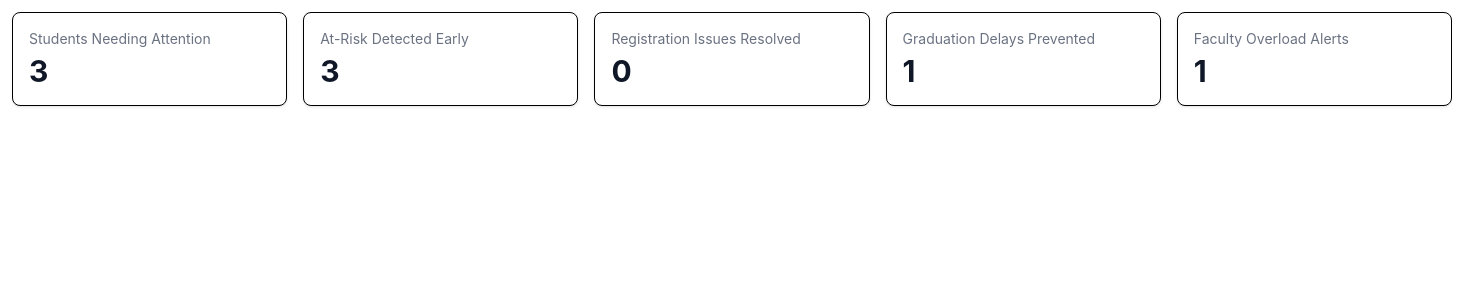
Scenario: KpiCards zero-count empty state › closes a zero-count panel the same three ways as any other
The width and height of the screenshot is (1464, 284).
Click the button "Registration Issues Resolved 0" at (706, 38), box 594,12 -> 870,106
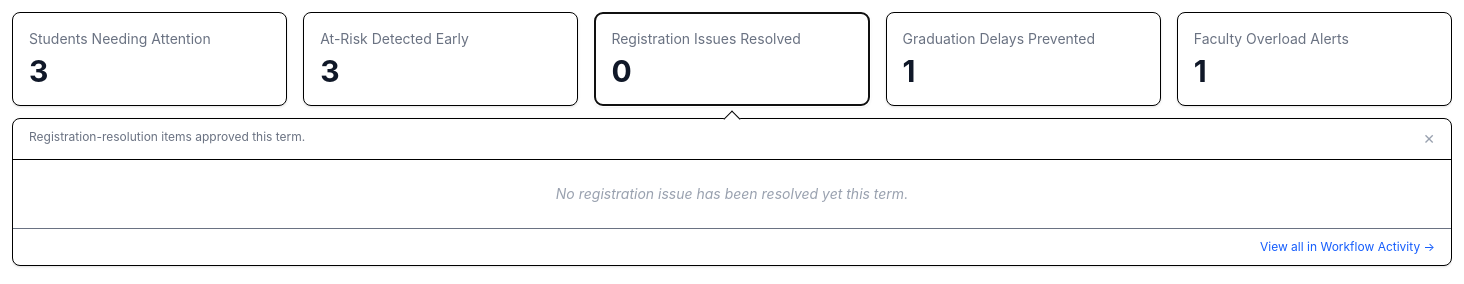
Click the button "Registration Issues Resolved 0" at (706, 38), box 594,12 -> 870,106
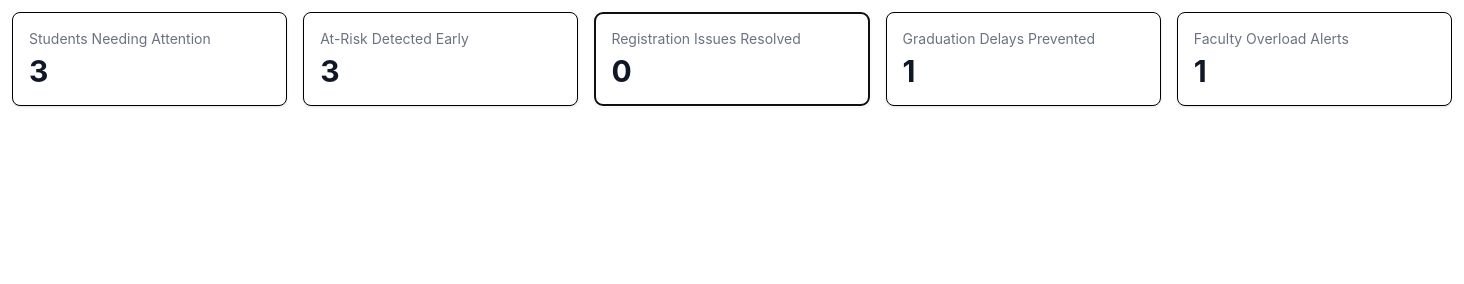
Expected: the element with test id "kpi-drilldown" is gone
Click the button "Registration Issues Resolved 0" at (706, 38), box 594,12 -> 870,106
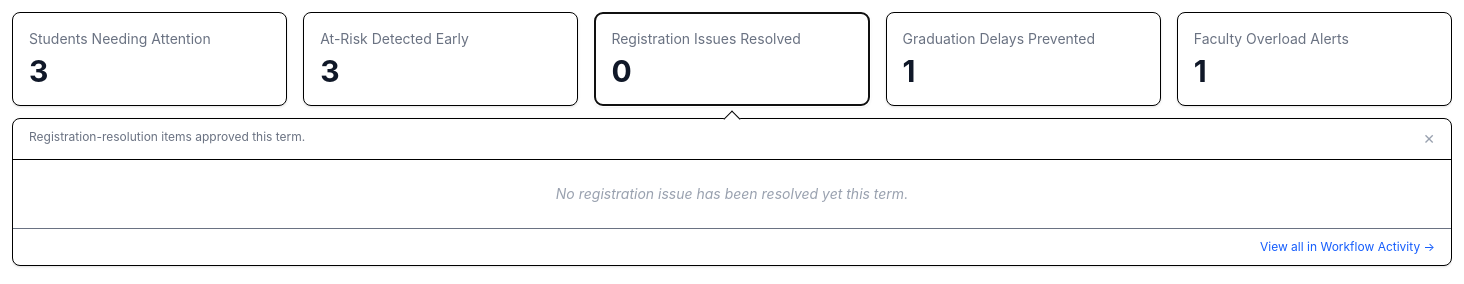
Press Escape
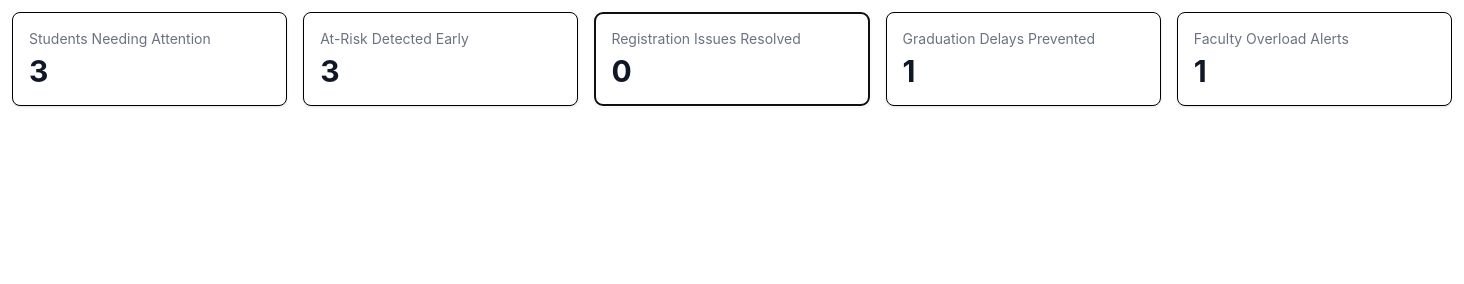
Expected: the element with test id "kpi-drilldown" is gone
Click the button "Registration Issues Resolved 0" at (706, 38), box 594,12 -> 870,106
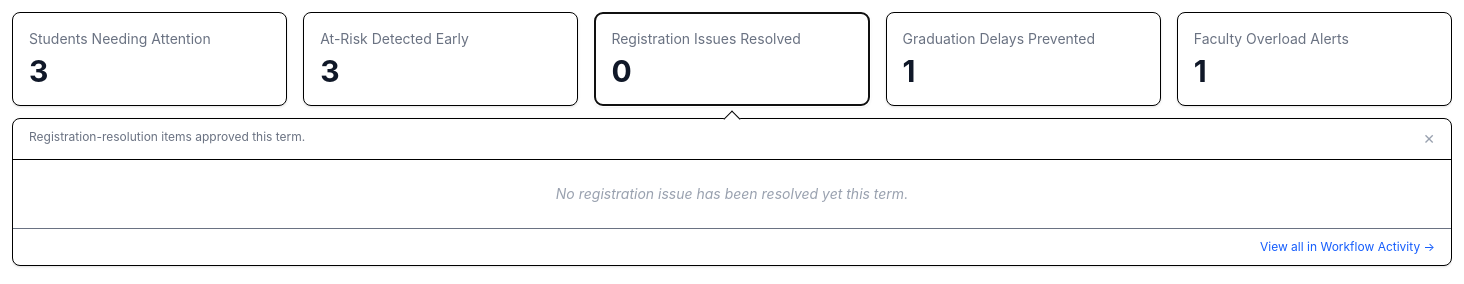
Click the button named "close" at (1429, 139), box 1423,129 -> 1435,149
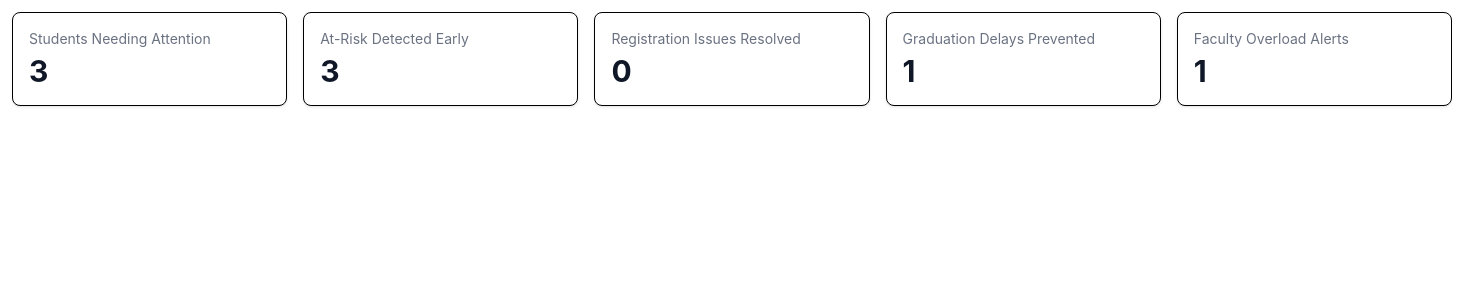
Expected: the element with test id "kpi-drilldown" is gone
